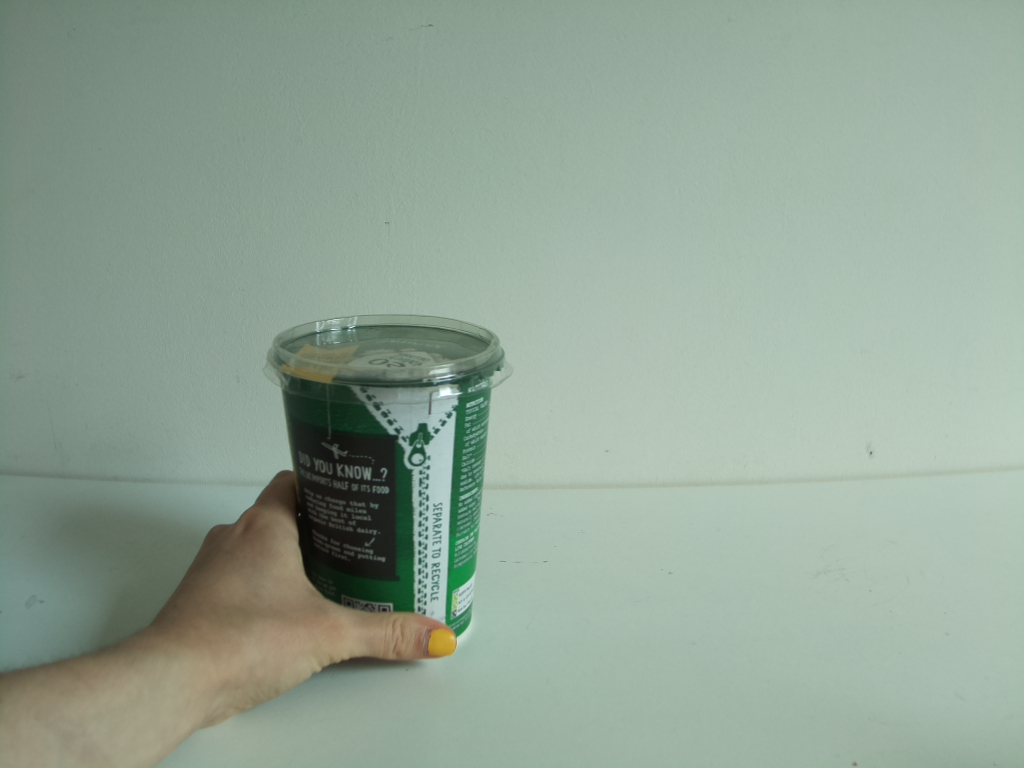yogurt: (261, 310, 515, 659)
